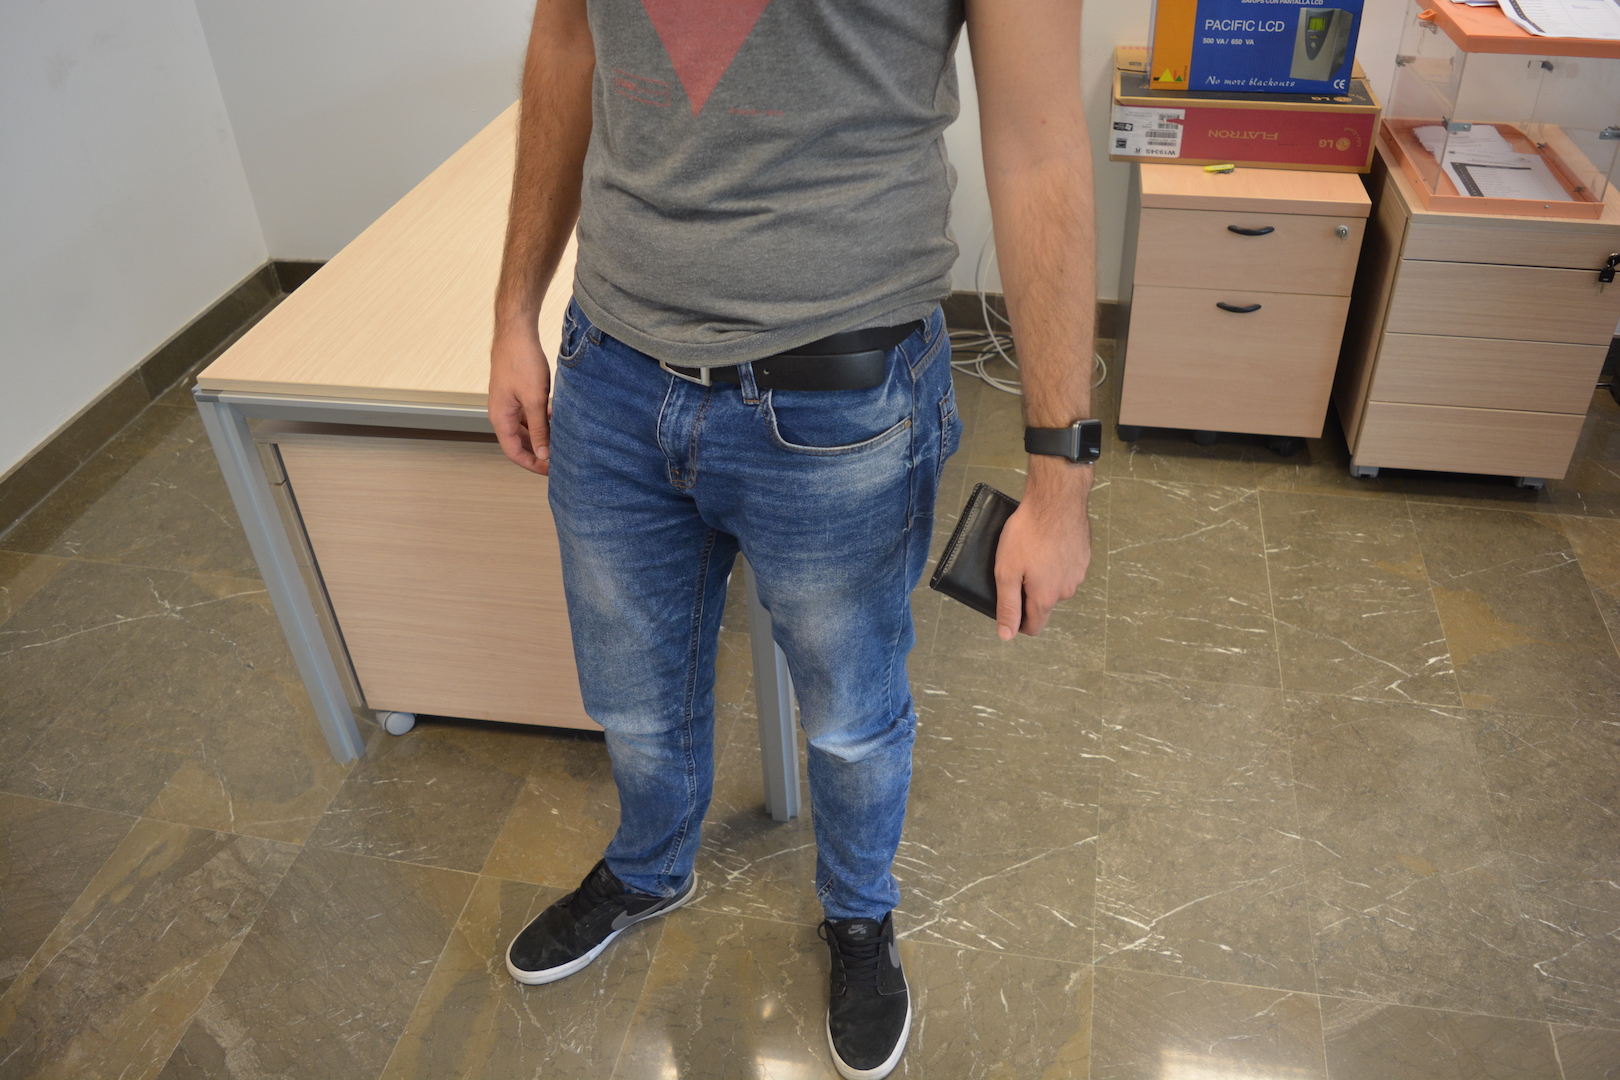monedero: (931, 482, 1029, 632)
